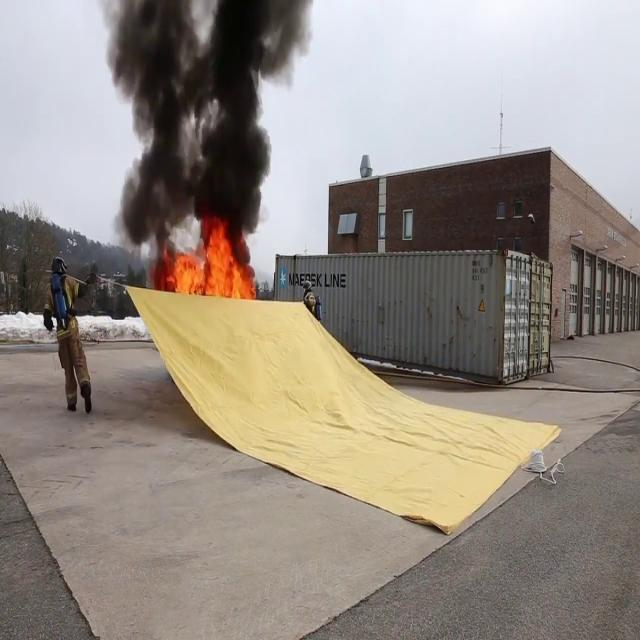Fire: (168, 223, 260, 298)
Smoke: (98, 0, 311, 252)
